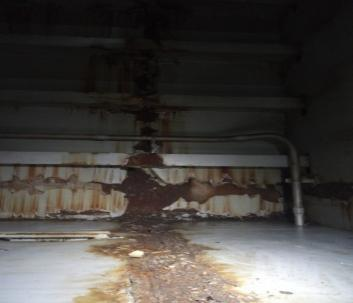corrosion: (90, 222, 257, 303), (196, 165, 284, 216), (50, 162, 123, 218), (119, 169, 189, 215), (0, 168, 54, 209)
